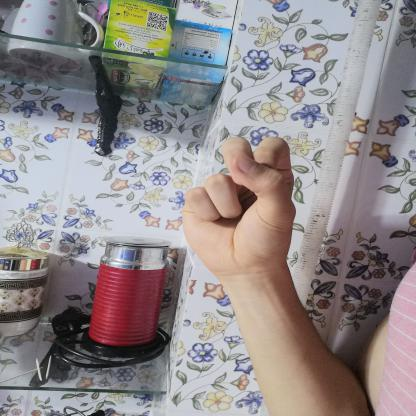QAAF: (165, 125, 320, 288)
